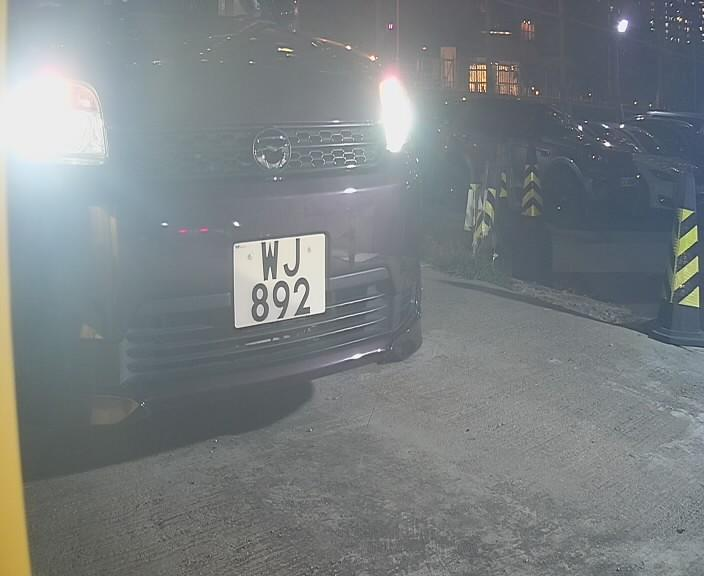privatecar: (1, 1, 472, 448)
